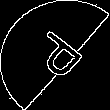P_SE: (21, 24, 89, 86)
